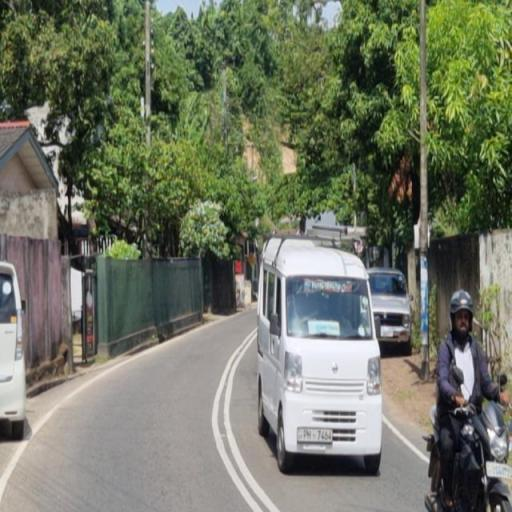double_white_line: (209, 325, 272, 512)
